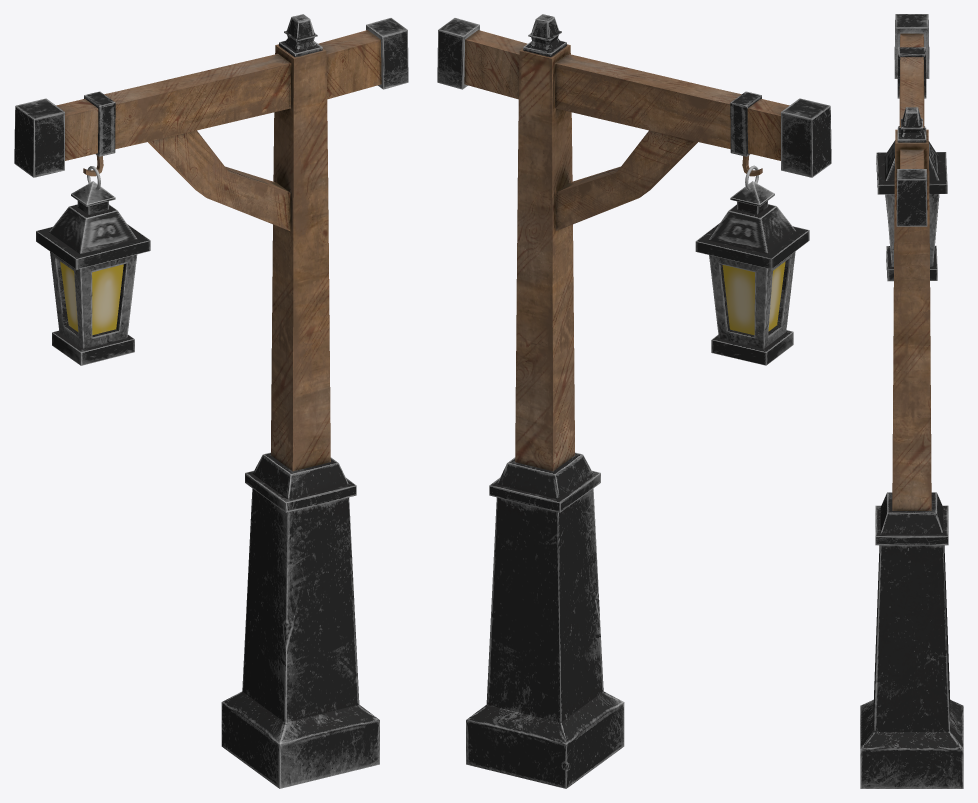
File: lamp.fbx
The picture shows the model from 3 angles, left to right: view 1: azimuth 30°, elevation 25°; view 2: azimuth 150°, elevation 25°; view 3: azimuth 270°, elevation 25°; orthographic projection. The views are drawn at different scales.
Parts seen in each view (by area): view 1: lamp; view 2: lamp; view 3: lamp.
Boxes of the visible parts, x1,y1,x2,y2 form: lamp: (14,14,408,788); lamp: (437,14,831,788); lamp: (860,14,963,788).
Bounding box in the file's own units: 2.82 × 5.28 × 0.7513.
1 material, 1 textured.
